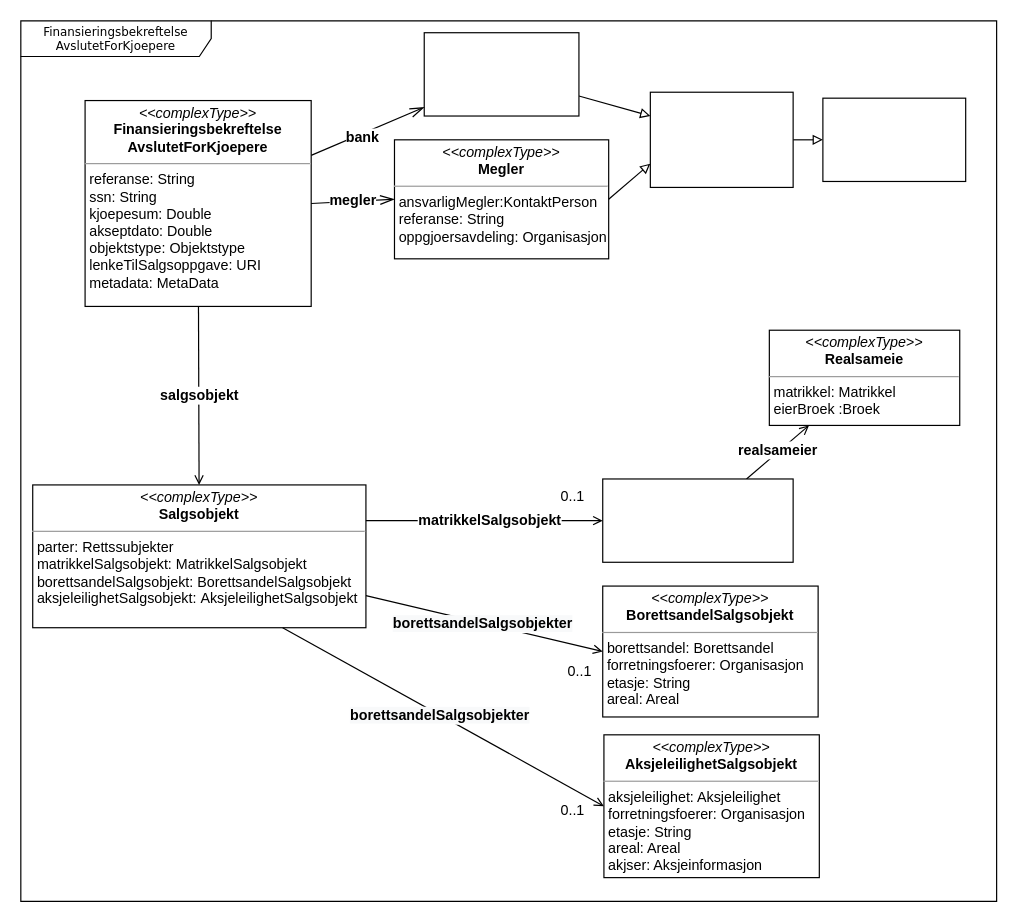
The diagram is 1017 pixels wide and 922 high, and some of its shapes have lost their labels. The shapes that lost their labels are listed below. From the top down, each one's box as (x1, y1, x2, y2) in pixels, then its label:
(423, 32, 579, 116): <<complexType>> Mottaker referanse: String
(649, 91, 793, 187): <<complexType>> Organisasjon foretaksnavn: String adresse: Adresse
(822, 97, 966, 181): <<complexType>> Rettssubjekt id: String
(602, 478, 793, 562): <<complexType>> MatrikkelSalgsobjekt matrikkel: Matrikkel
